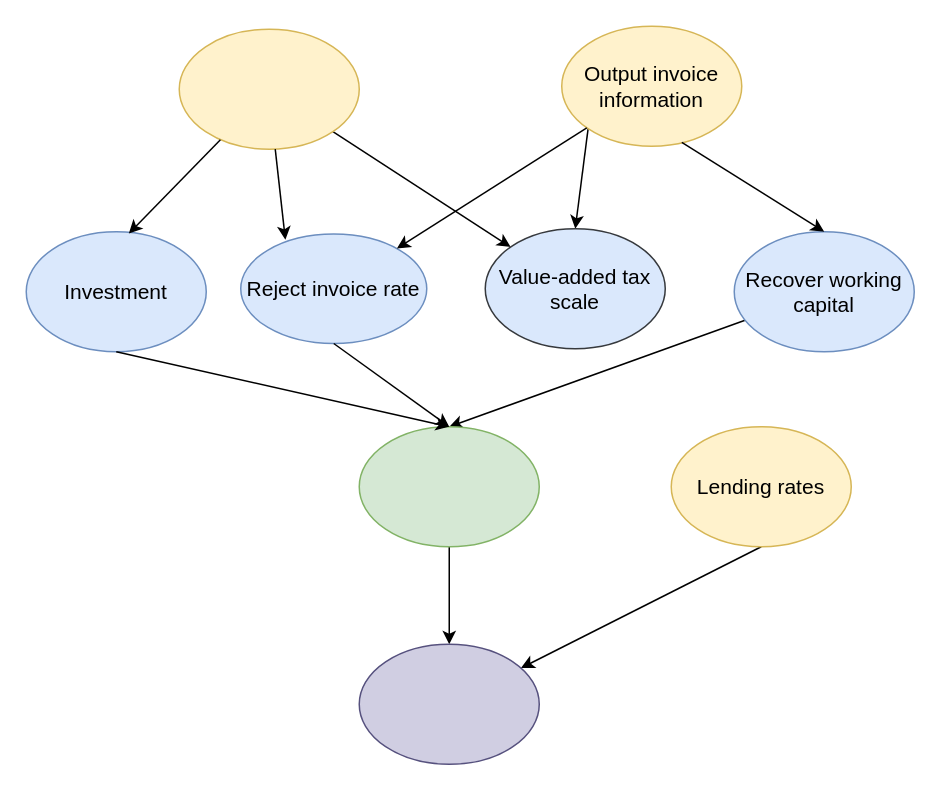
This 941x791 diagram has some shape labels left out. Each missing label, with the box of its shape:
Credit strategy: (358, 643, 539, 764)
Input invoice information: (178, 28, 359, 149)
Reputation rating: (358, 425, 539, 547)
